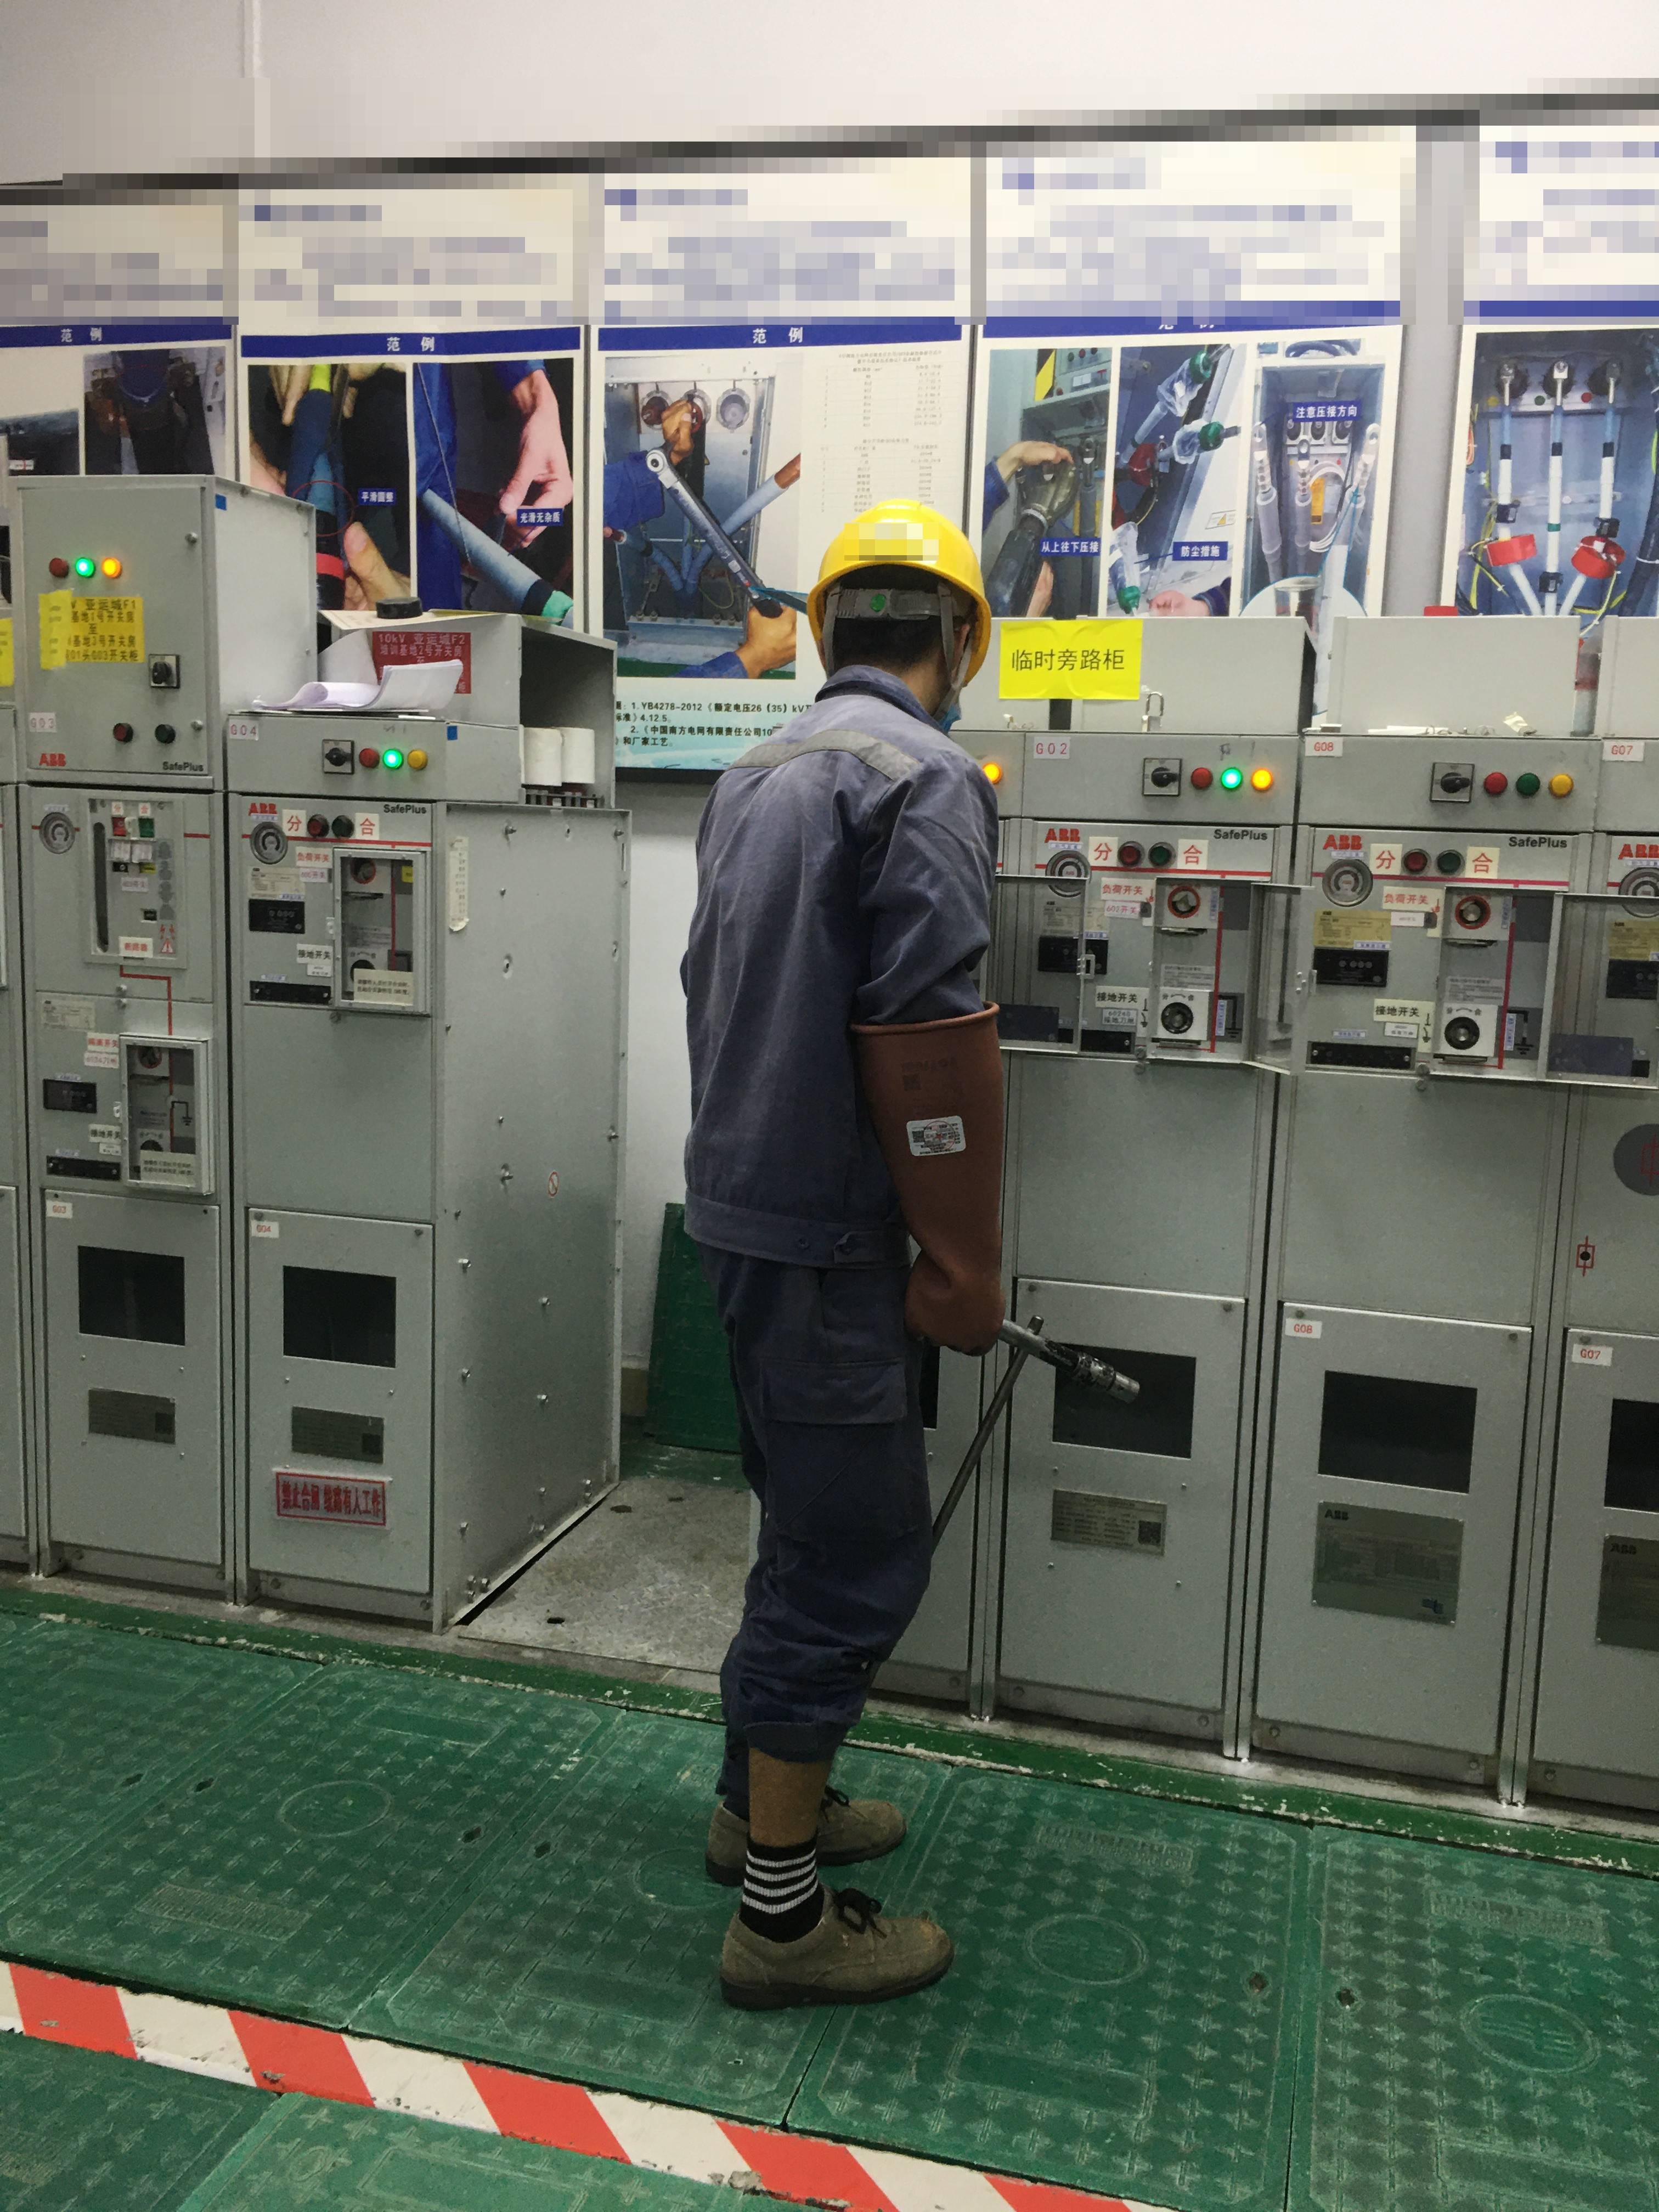downsuit: (640, 1238, 957, 1963)
upsuit: (615, 679, 1066, 1268)
wrongbottom: (720, 1733, 849, 1921)
